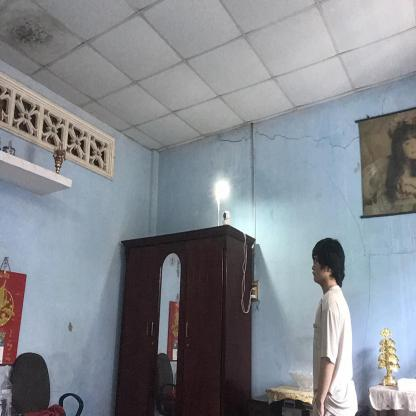person: (308, 236, 355, 416)
